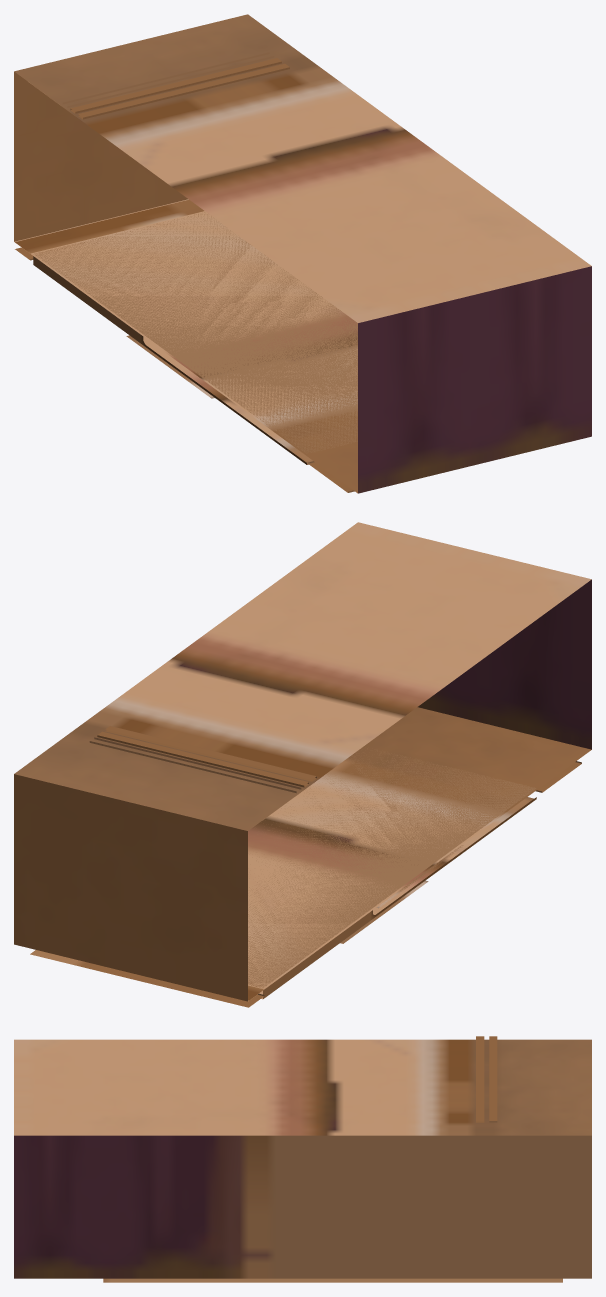
File: section-7.obj
The picture shows the model from 3 angles, top to bottom: view 1: azimuth 30°, elevation 25°; view 2: azimuth 150°, elevation 25°; view 3: azimuth 270°, elevation 25°; orthographic projection. The views are drawn at different scales.
Size of the model in its own units: 0.78 by 0.6215 by 1.99.
